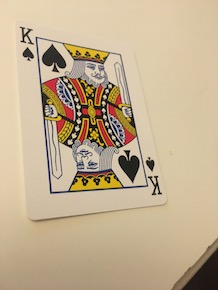KingOfSpades: (13, 15, 172, 224)
